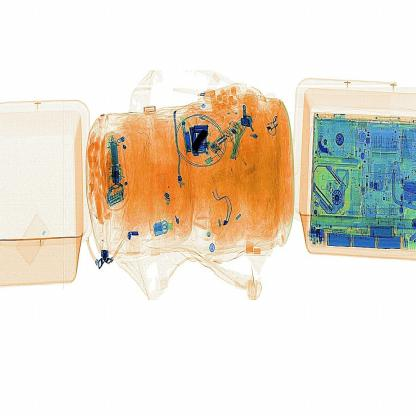scissors: (187, 127, 212, 161)
